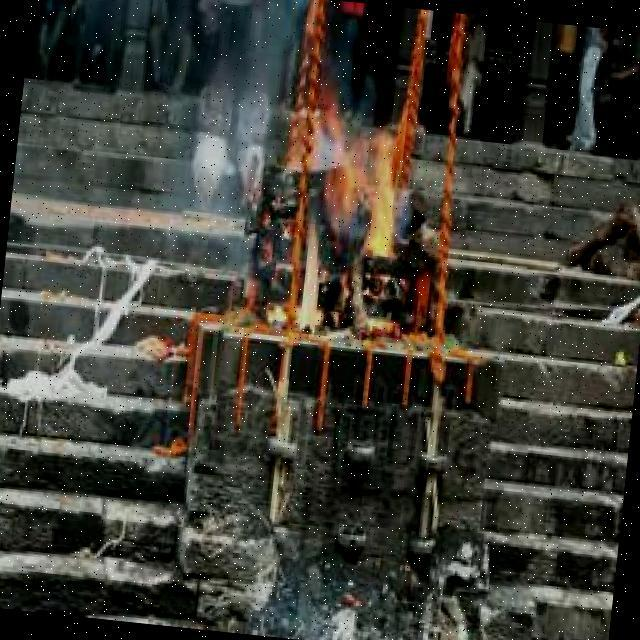Fire: (293, 118, 406, 349)
